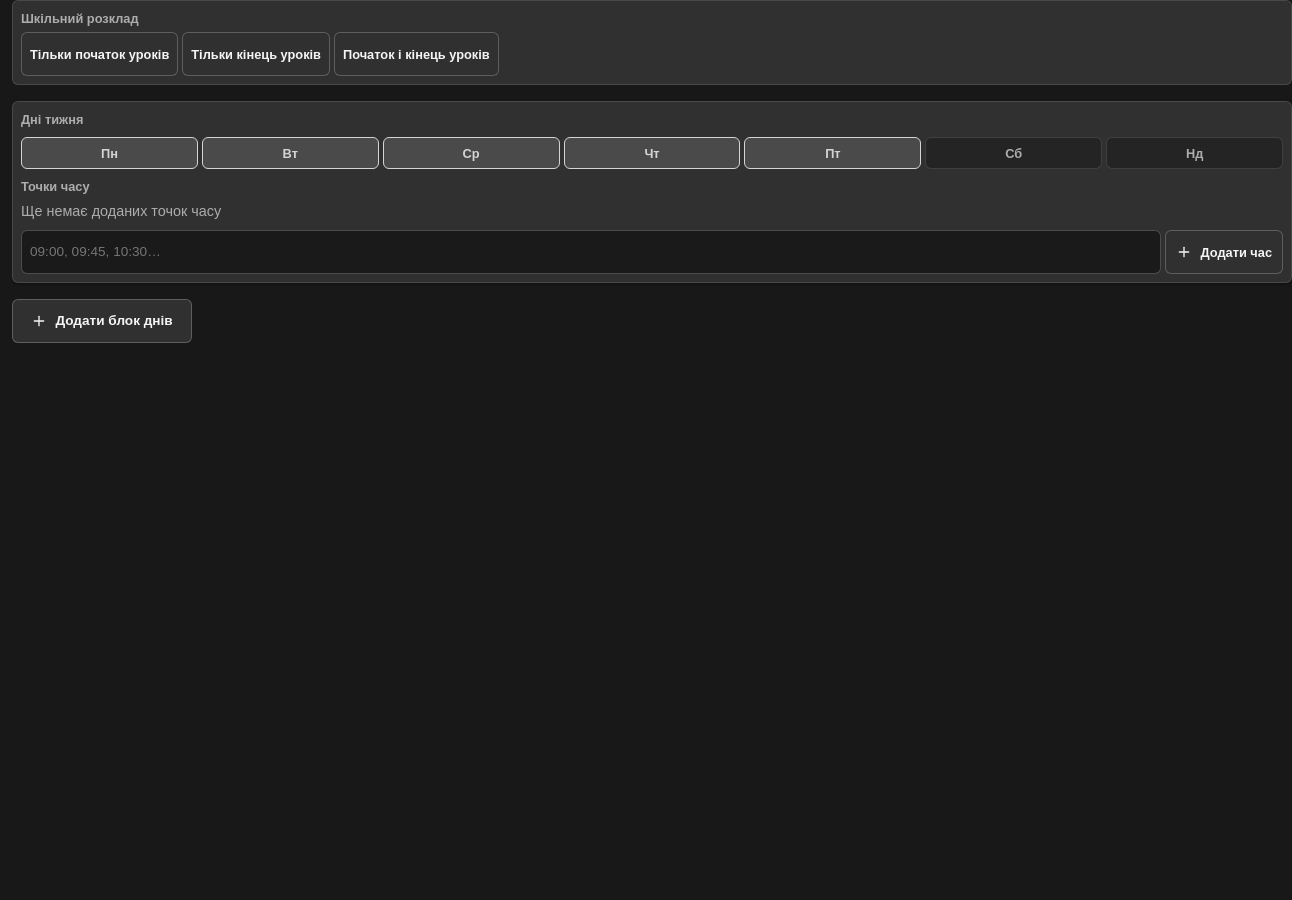
ScheduleEditor › застосовує пресет "тільки початок уроків"
The image size is (1292, 900).
Click the button with test id "schedule-preset-start-btn" at (100, 54), box [21,32,178,76]
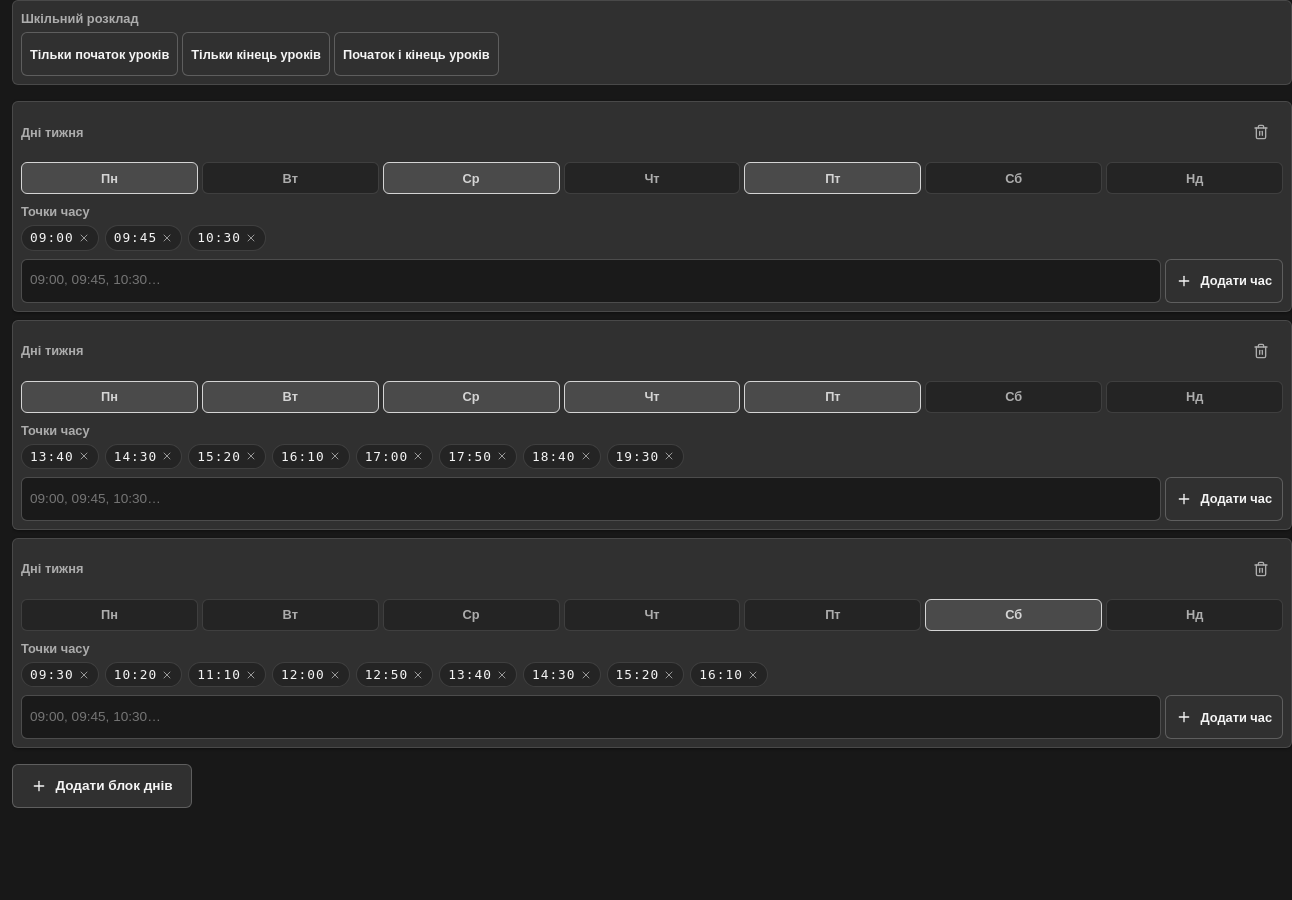
Result: the element with test id "-card" shows "09:00" at [30,230,74,245]
Result: the element with test id "-card" shows "09:45" at [114,230,157,245]
Result: the element with test id "-card" shows "10:30" at [197,230,241,245]
